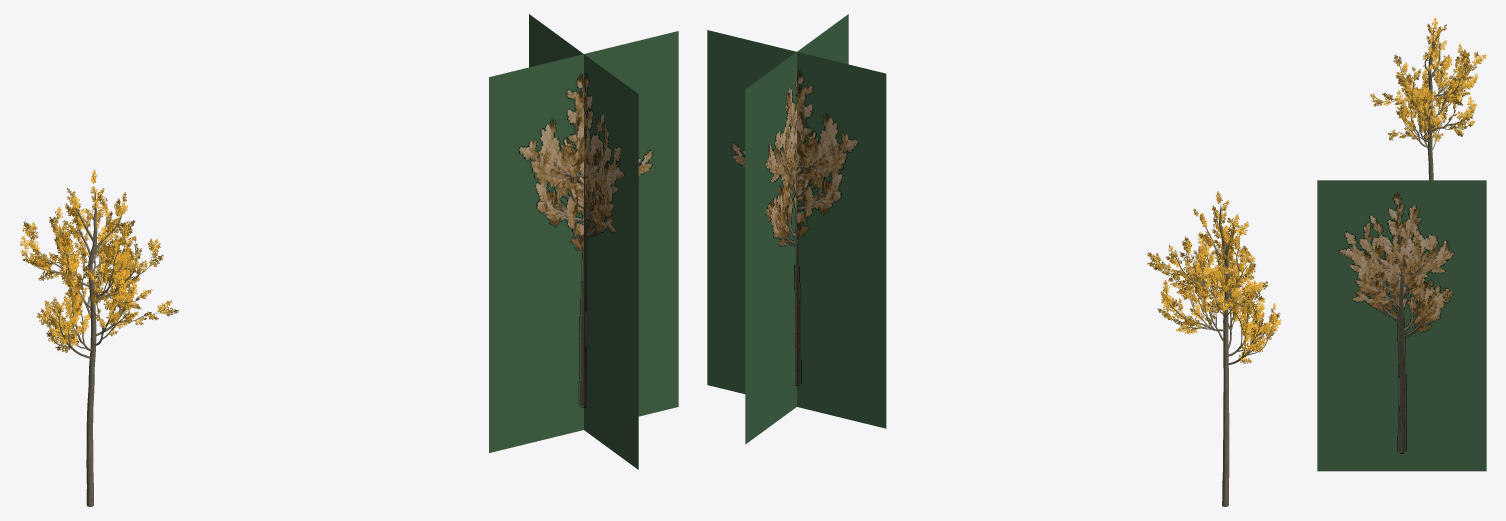
File: tree2.glb
3 views of the same model, side by side, from view 1: azimuth 30°, elevation 25°; view 2: azimuth 150°, elevation 25°; view 3: azimuth 270°, elevation 25° (orthographic). The views are drawn at different scales.
Visible parts, largest first — view 1: Empty.008, Leaves_LOD0.001, Branches_LOD0.001; view 2: Empty.008, Leaves_LOD0.001, Branches_LOD0.001; view 3: Empty.008, Leaves_LOD0.001, Branches_LOD0.001.
Boxes of the visible parts, bbox=[...] form: Empty.008: bbox=[489, 14, 678, 469]; Leaves_LOD0.001: bbox=[20, 169, 178, 352]; Branches_LOD0.001: bbox=[26, 189, 160, 506]; Empty.008: bbox=[707, 14, 886, 444]; Leaves_LOD0.001: bbox=[1147, 191, 1281, 363]; Branches_LOD0.001: bbox=[1160, 205, 1272, 506]; Empty.008: bbox=[1317, 180, 1486, 471]; Leaves_LOD0.001: bbox=[1370, 18, 1486, 141]; Branches_LOD0.001: bbox=[1378, 28, 1473, 180].
Size of the model in its own units: 33.34 by 18.98 by 10.3.
Materials: 3 (3 with a texture image).
